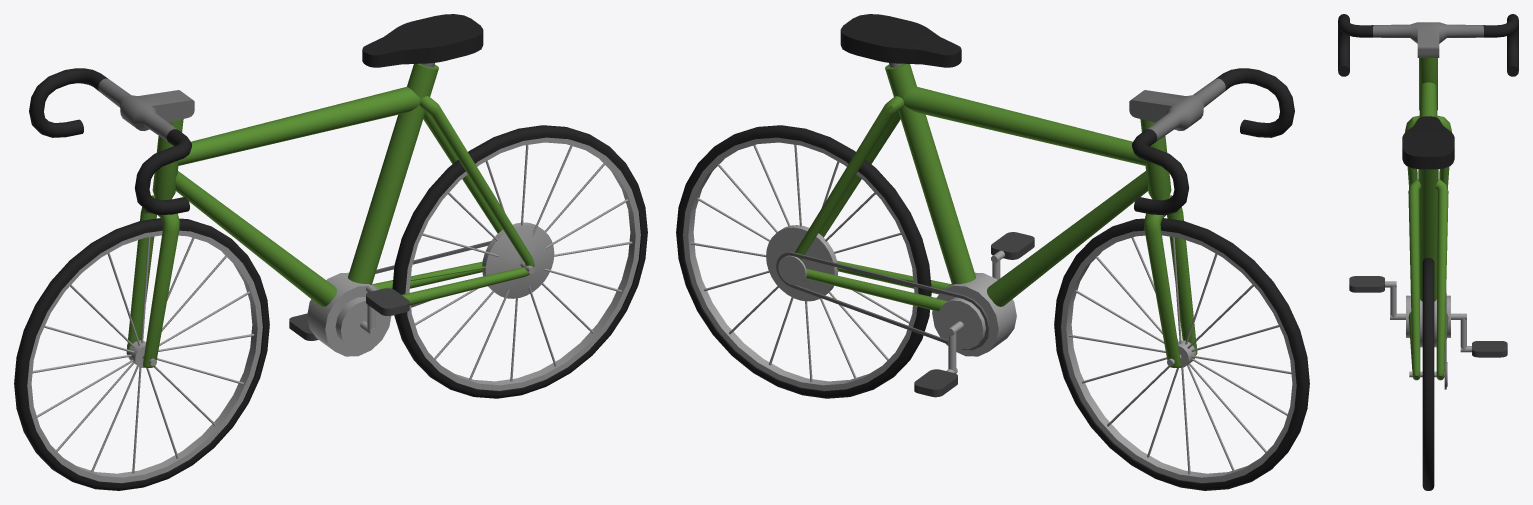
The model's file is bicycle.gltf.
3 renders of one model, left to right at view 1: azimuth 30°, elevation 25°; view 2: azimuth 150°, elevation 25°; view 3: azimuth 270°, elevation 25°, orthographic. The views are drawn at different scales.
Parts seen in each view (by area): view 1: Circle.2393; view 2: Circle.2393; view 3: Circle.2393.
Part boxes in pixels (x1,y1,x2,y2): Circle.2393: (14,14,647,490); Circle.2393: (676,14,1309,490); Circle.2393: (1338,14,1518,490).
Size of the model in its own units: 2.45 by 1.43 by 0.7598.
Materials: 1 (1 with a texture image).
